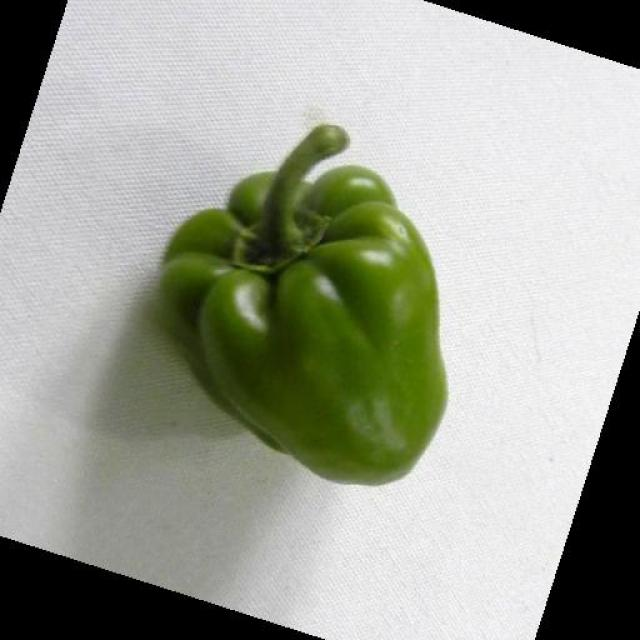Fresh_Capsicum: (168, 154, 460, 487)
